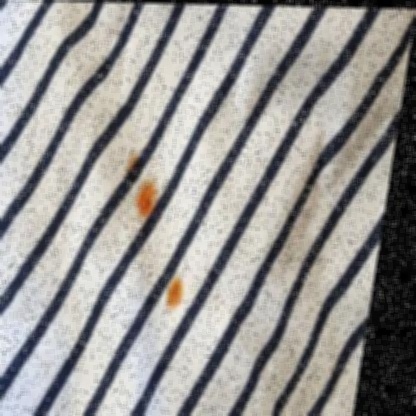kimchi: (131, 177, 160, 217), (167, 277, 186, 313), (121, 151, 139, 166)
